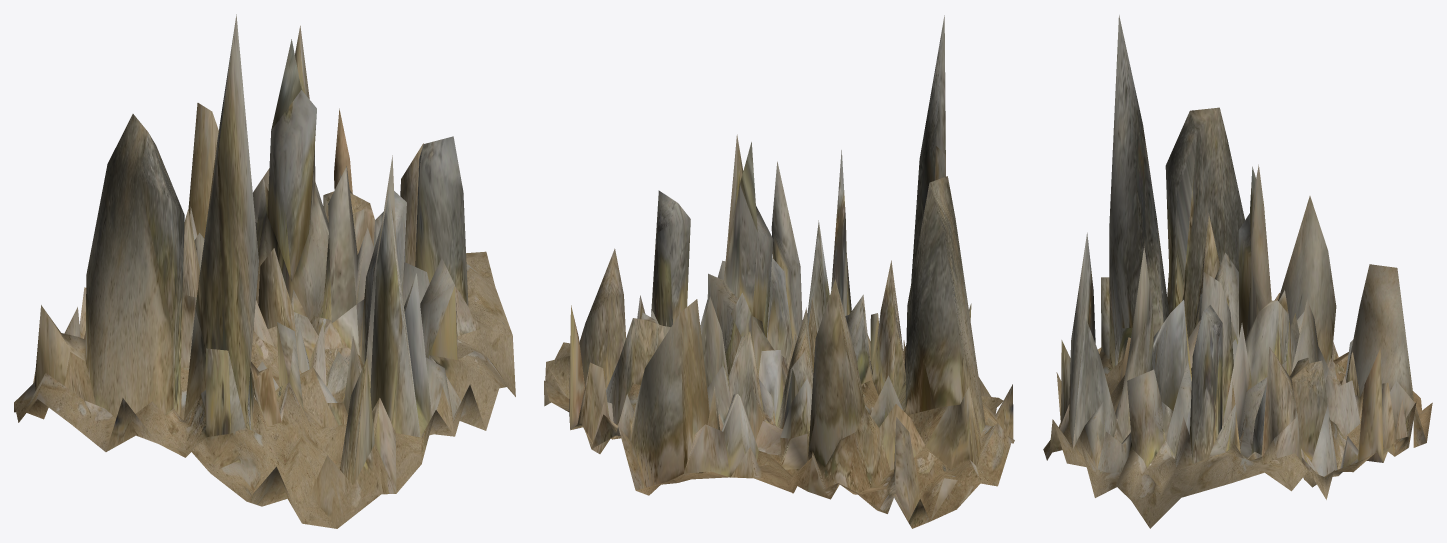
Rendered from sand_rocks_small_01_hi.glb.
3 renders of one model, left to right at view 1: azimuth 30°, elevation 25°; view 2: azimuth 150°, elevation 25°; view 3: azimuth 270°, elevation 25°, orthographic. The views are drawn at different scales.
Visible parts, largest first — view 1: sand_rocks_small_01_hi; view 2: sand_rocks_small_01_hi; view 3: sand_rocks_small_01_hi.
Part boxes in pixels (left/top/right/bottom): sand_rocks_small_01_hi: left=14, top=14, right=515, bottom=528; sand_rocks_small_01_hi: left=544, top=15, right=1014, bottom=528; sand_rocks_small_01_hi: left=1043, top=15, right=1432, bottom=528.
Bounding box in the file's own units: 0.9947 × 0.9932 × 0.8414.
1 material, 1 textured.
